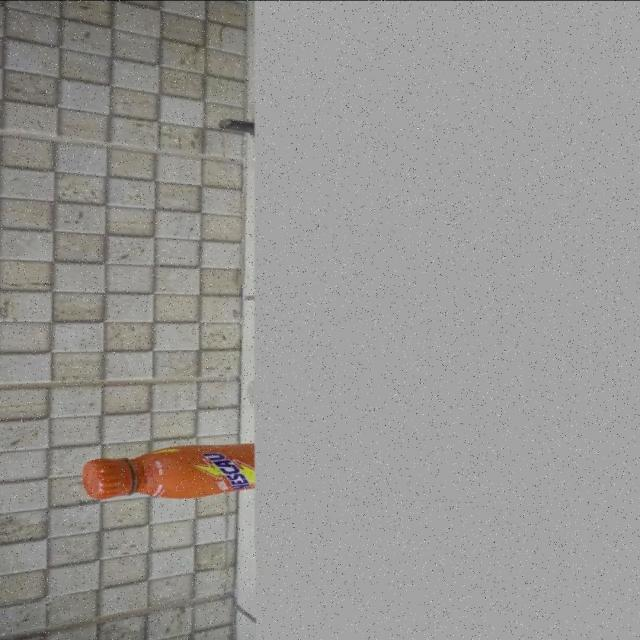ChocolateMilk: (74, 438, 252, 508)
